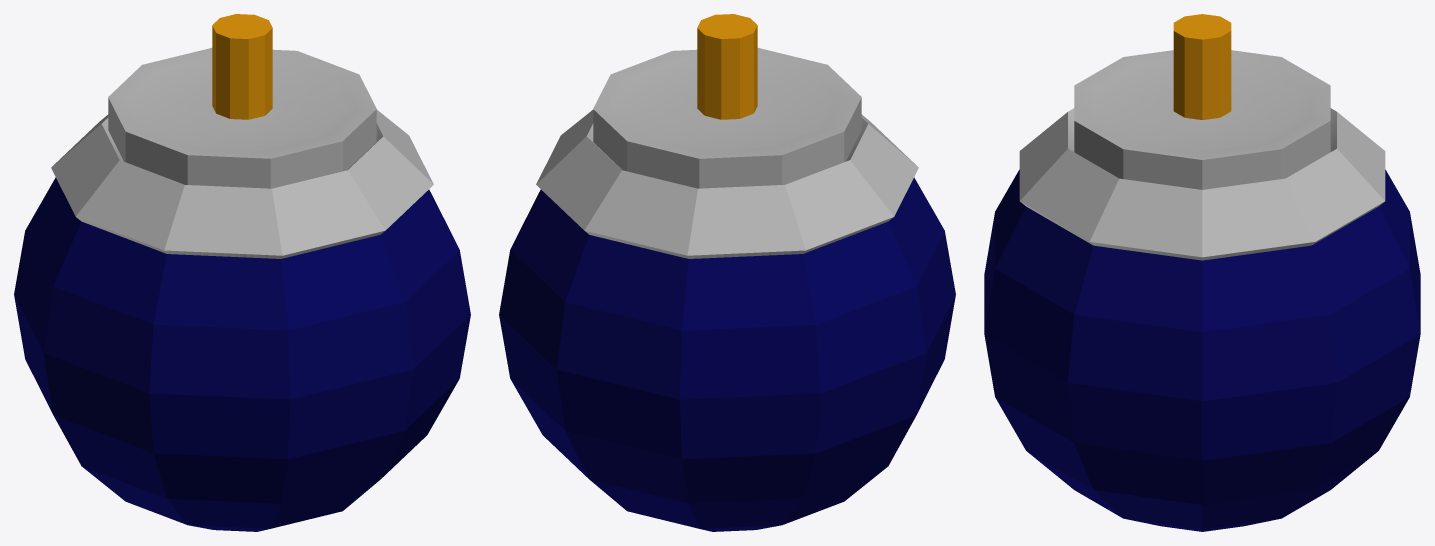
File: bomb.fbx
3 renders of one model, left to right at view 1: azimuth 30°, elevation 25°; view 2: azimuth 150°, elevation 25°; view 3: azimuth 270°, elevation 25°, orthographic.
Visible parts, largest first — view 1: pSphere1; view 2: pSphere1; view 3: pSphere1.
Part boxes in pixels (x1,y1,x2,y2): pSphere1: (14, 14, 470, 531); pSphere1: (499, 14, 955, 531); pSphere1: (984, 14, 1420, 531).
Size of the model in its own units: 2 by 2.34 by 1.9.
